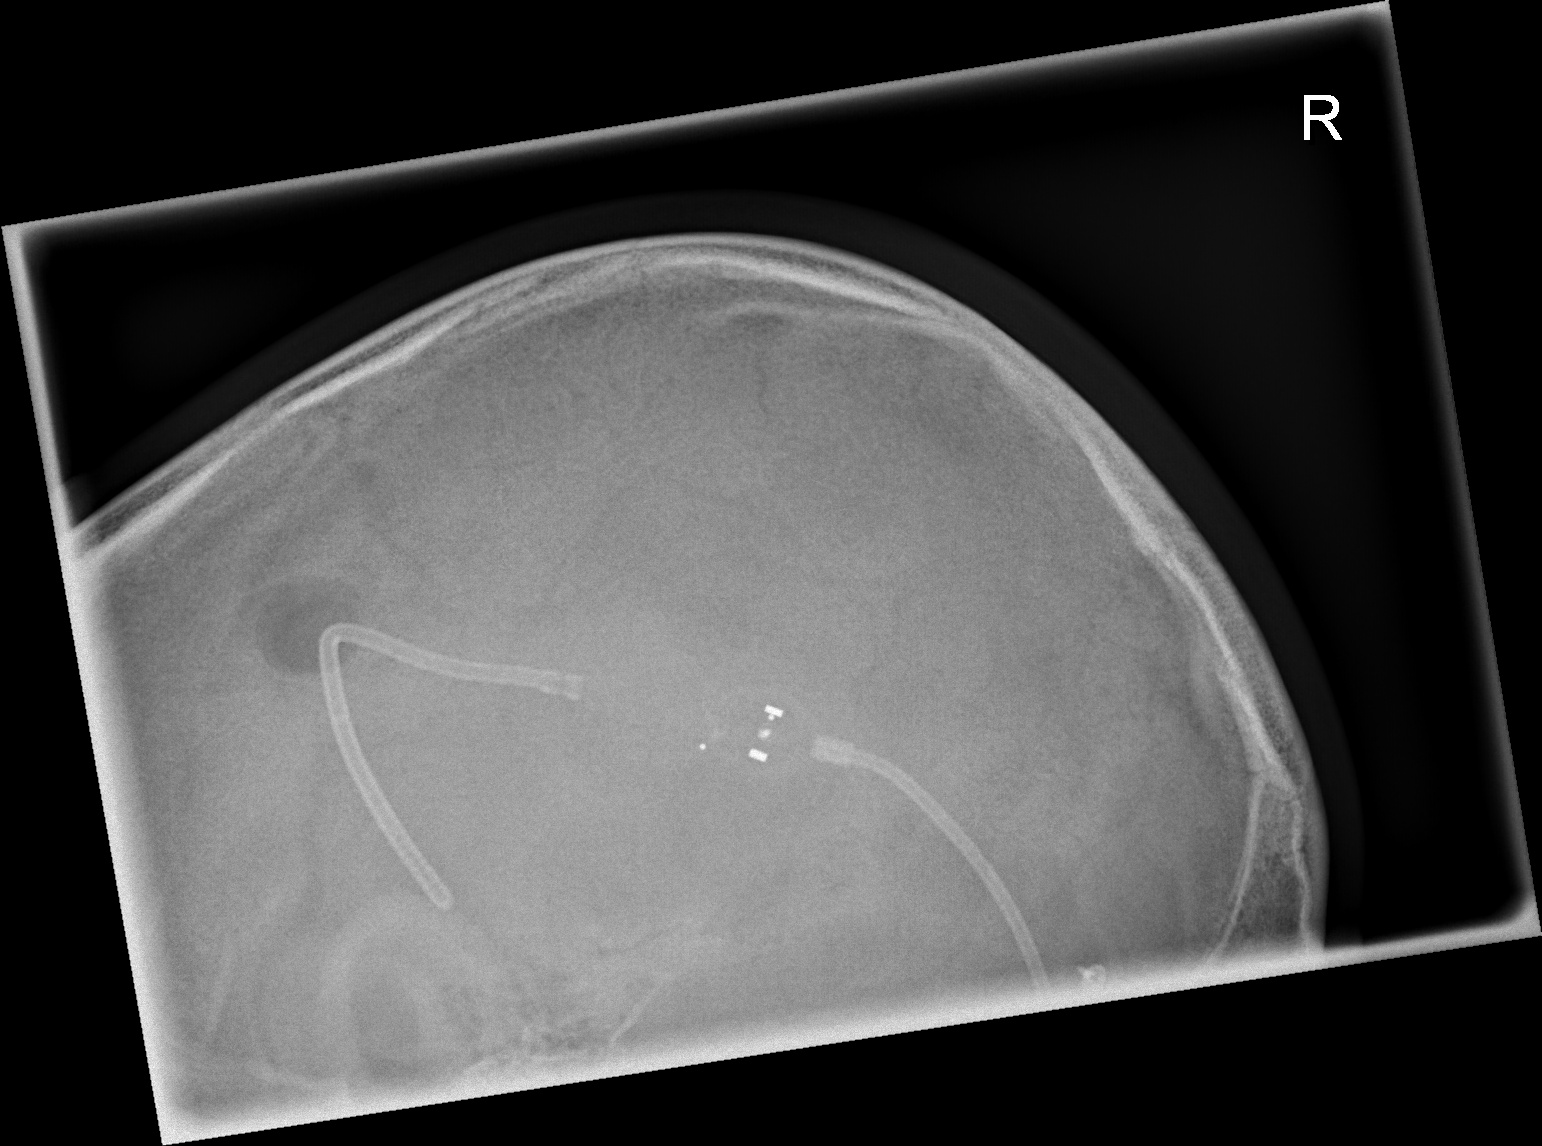Codman Certas: (689, 679, 815, 788)
